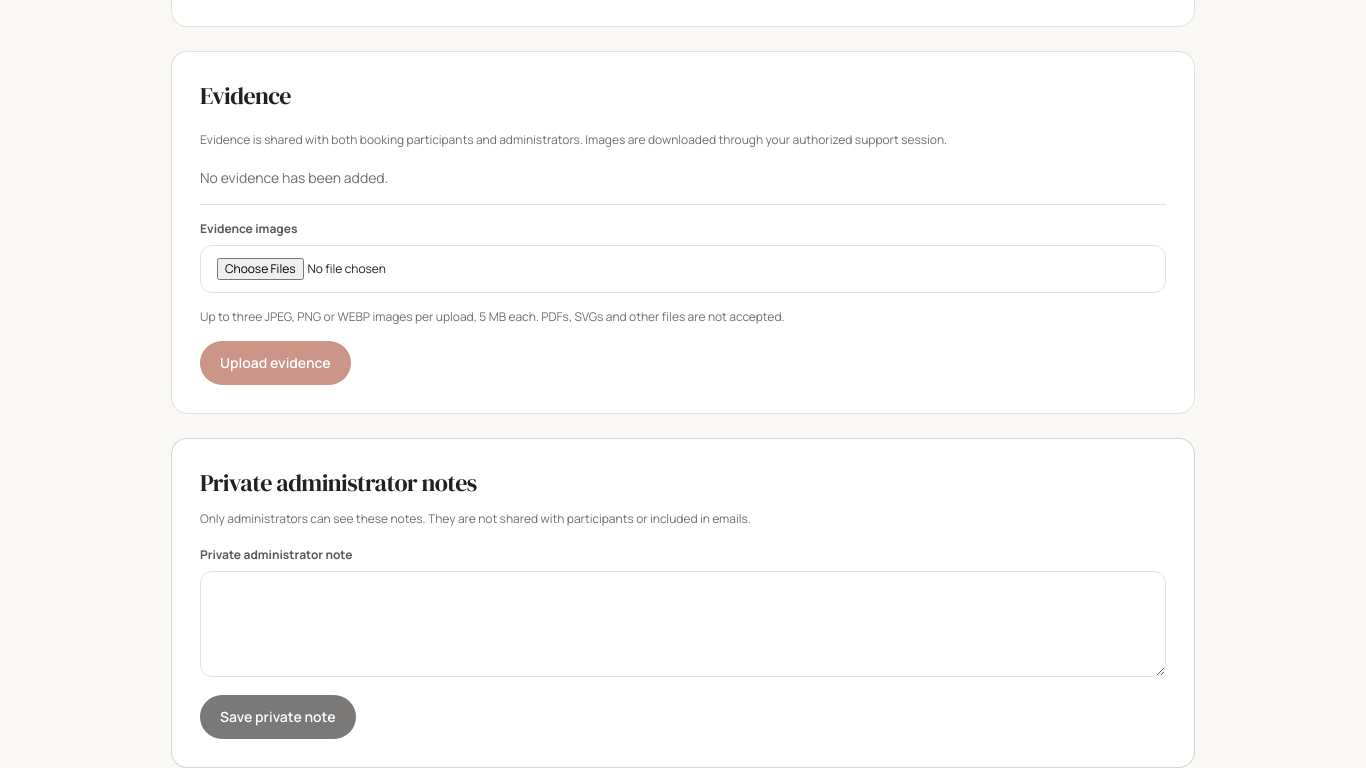
booking support interfaces › stores private administrator notes through their own endpoint
(page scrolled)
In the text box labelled "Private administrator note": (683, 624) [200, 570, 1166, 676], type "Internal assessment"
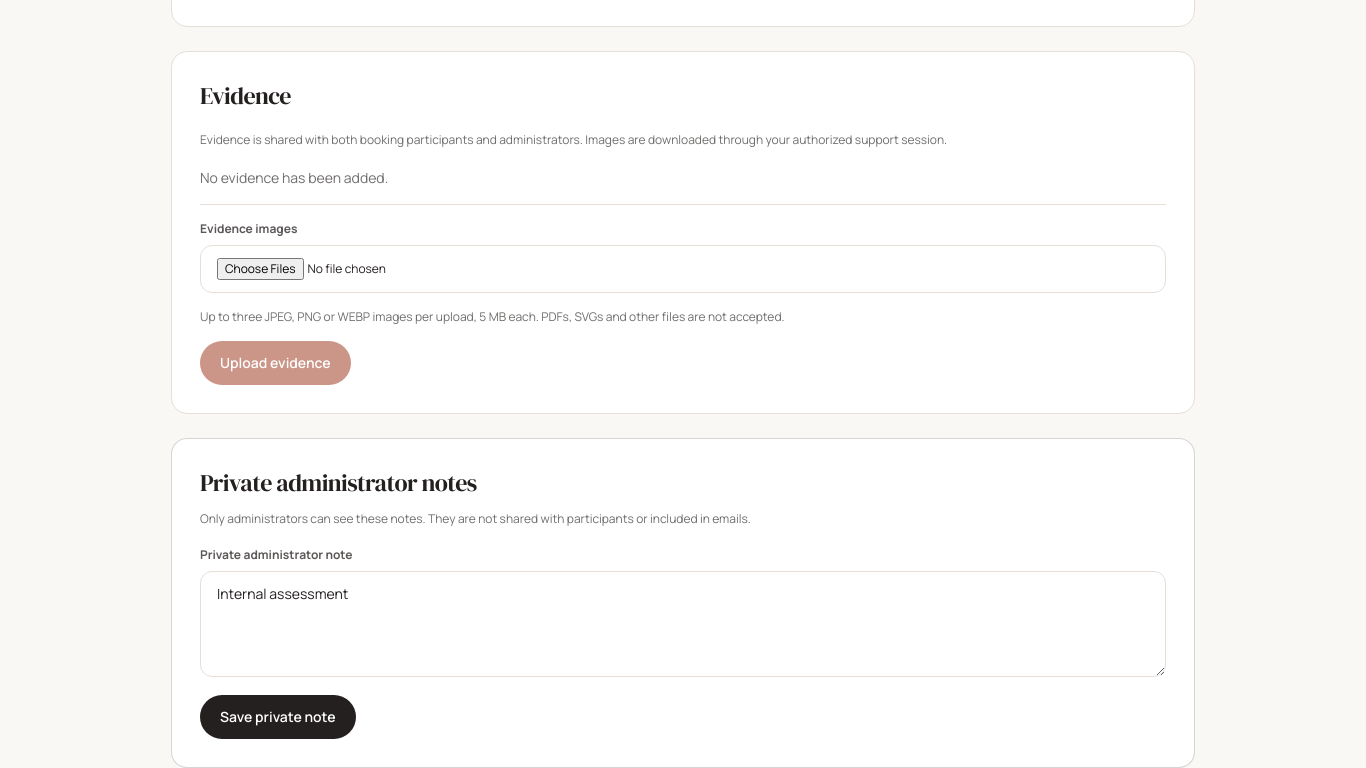
Click the button "Save private note": (278, 716) [200, 694, 356, 738]
(page scrolled)
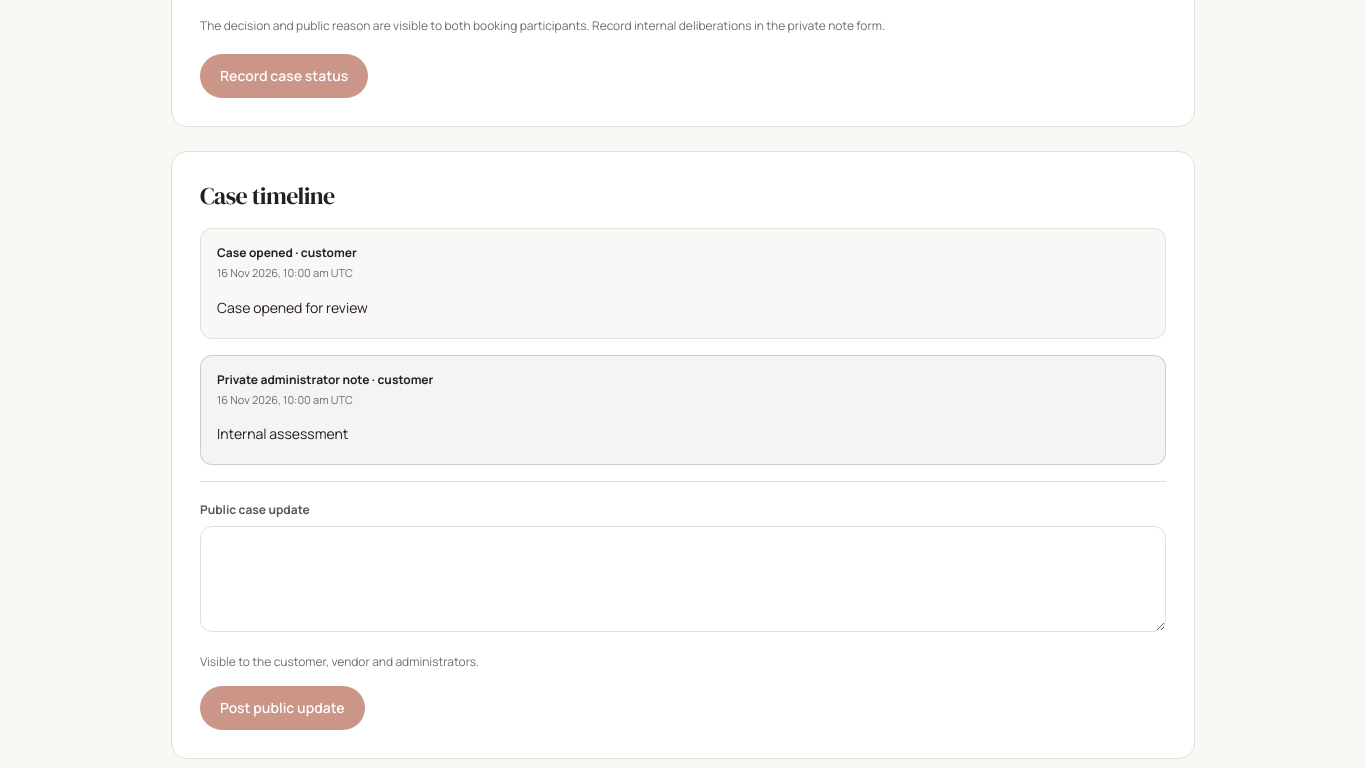
Check: the text "Internal assessment" is shown, box [217, 424, 348, 443]
